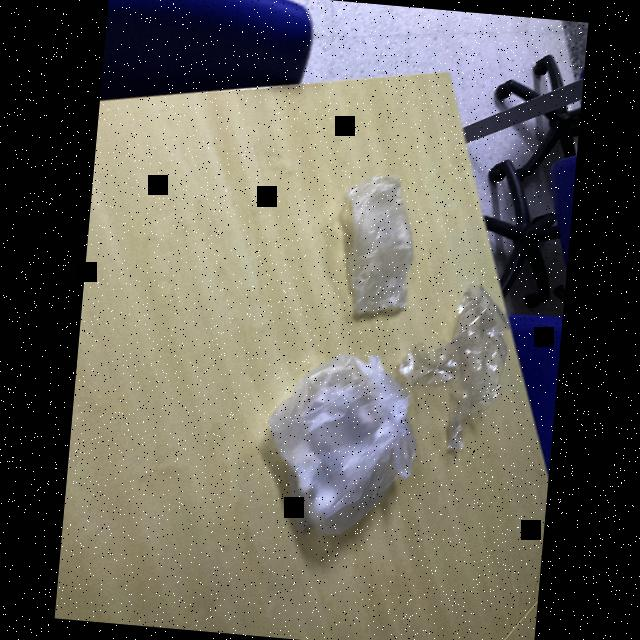plastic_bag: (252, 345, 423, 551), (391, 276, 514, 460), (331, 169, 420, 330)
